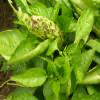Bell_pepper leaf spot: (9, 1, 64, 50)
